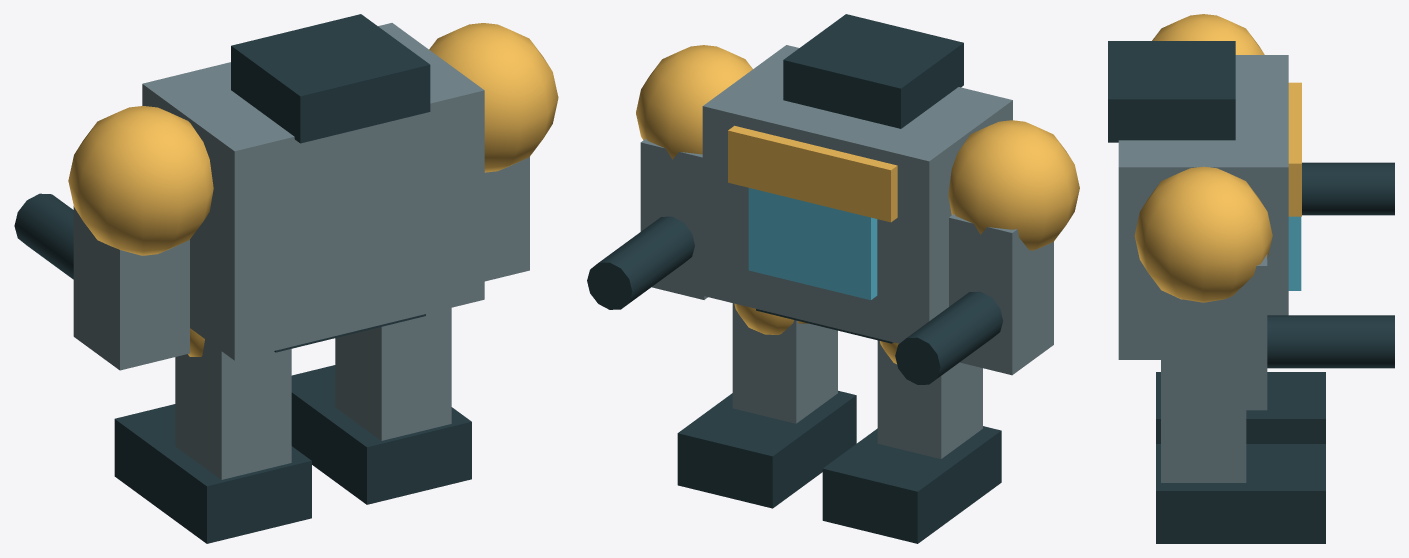
File: mech.glb
3 renders of one model, left to right at view 1: azimuth 30°, elevation 25°; view 2: azimuth 150°, elevation 25°; view 3: azimuth 270°, elevation 25°, orthographic. The views are drawn at different scales.
Visible parts, largest first — view 1: mech; view 2: mech; view 3: mech.
Boxes of the visible parts, x1,y1,x2,y2 form: mech: (14, 14, 558, 543); mech: (587, 14, 1079, 543); mech: (1108, 14, 1394, 543).
Size of the model in its own units: 4.7 by 4.3 by 2.7.
